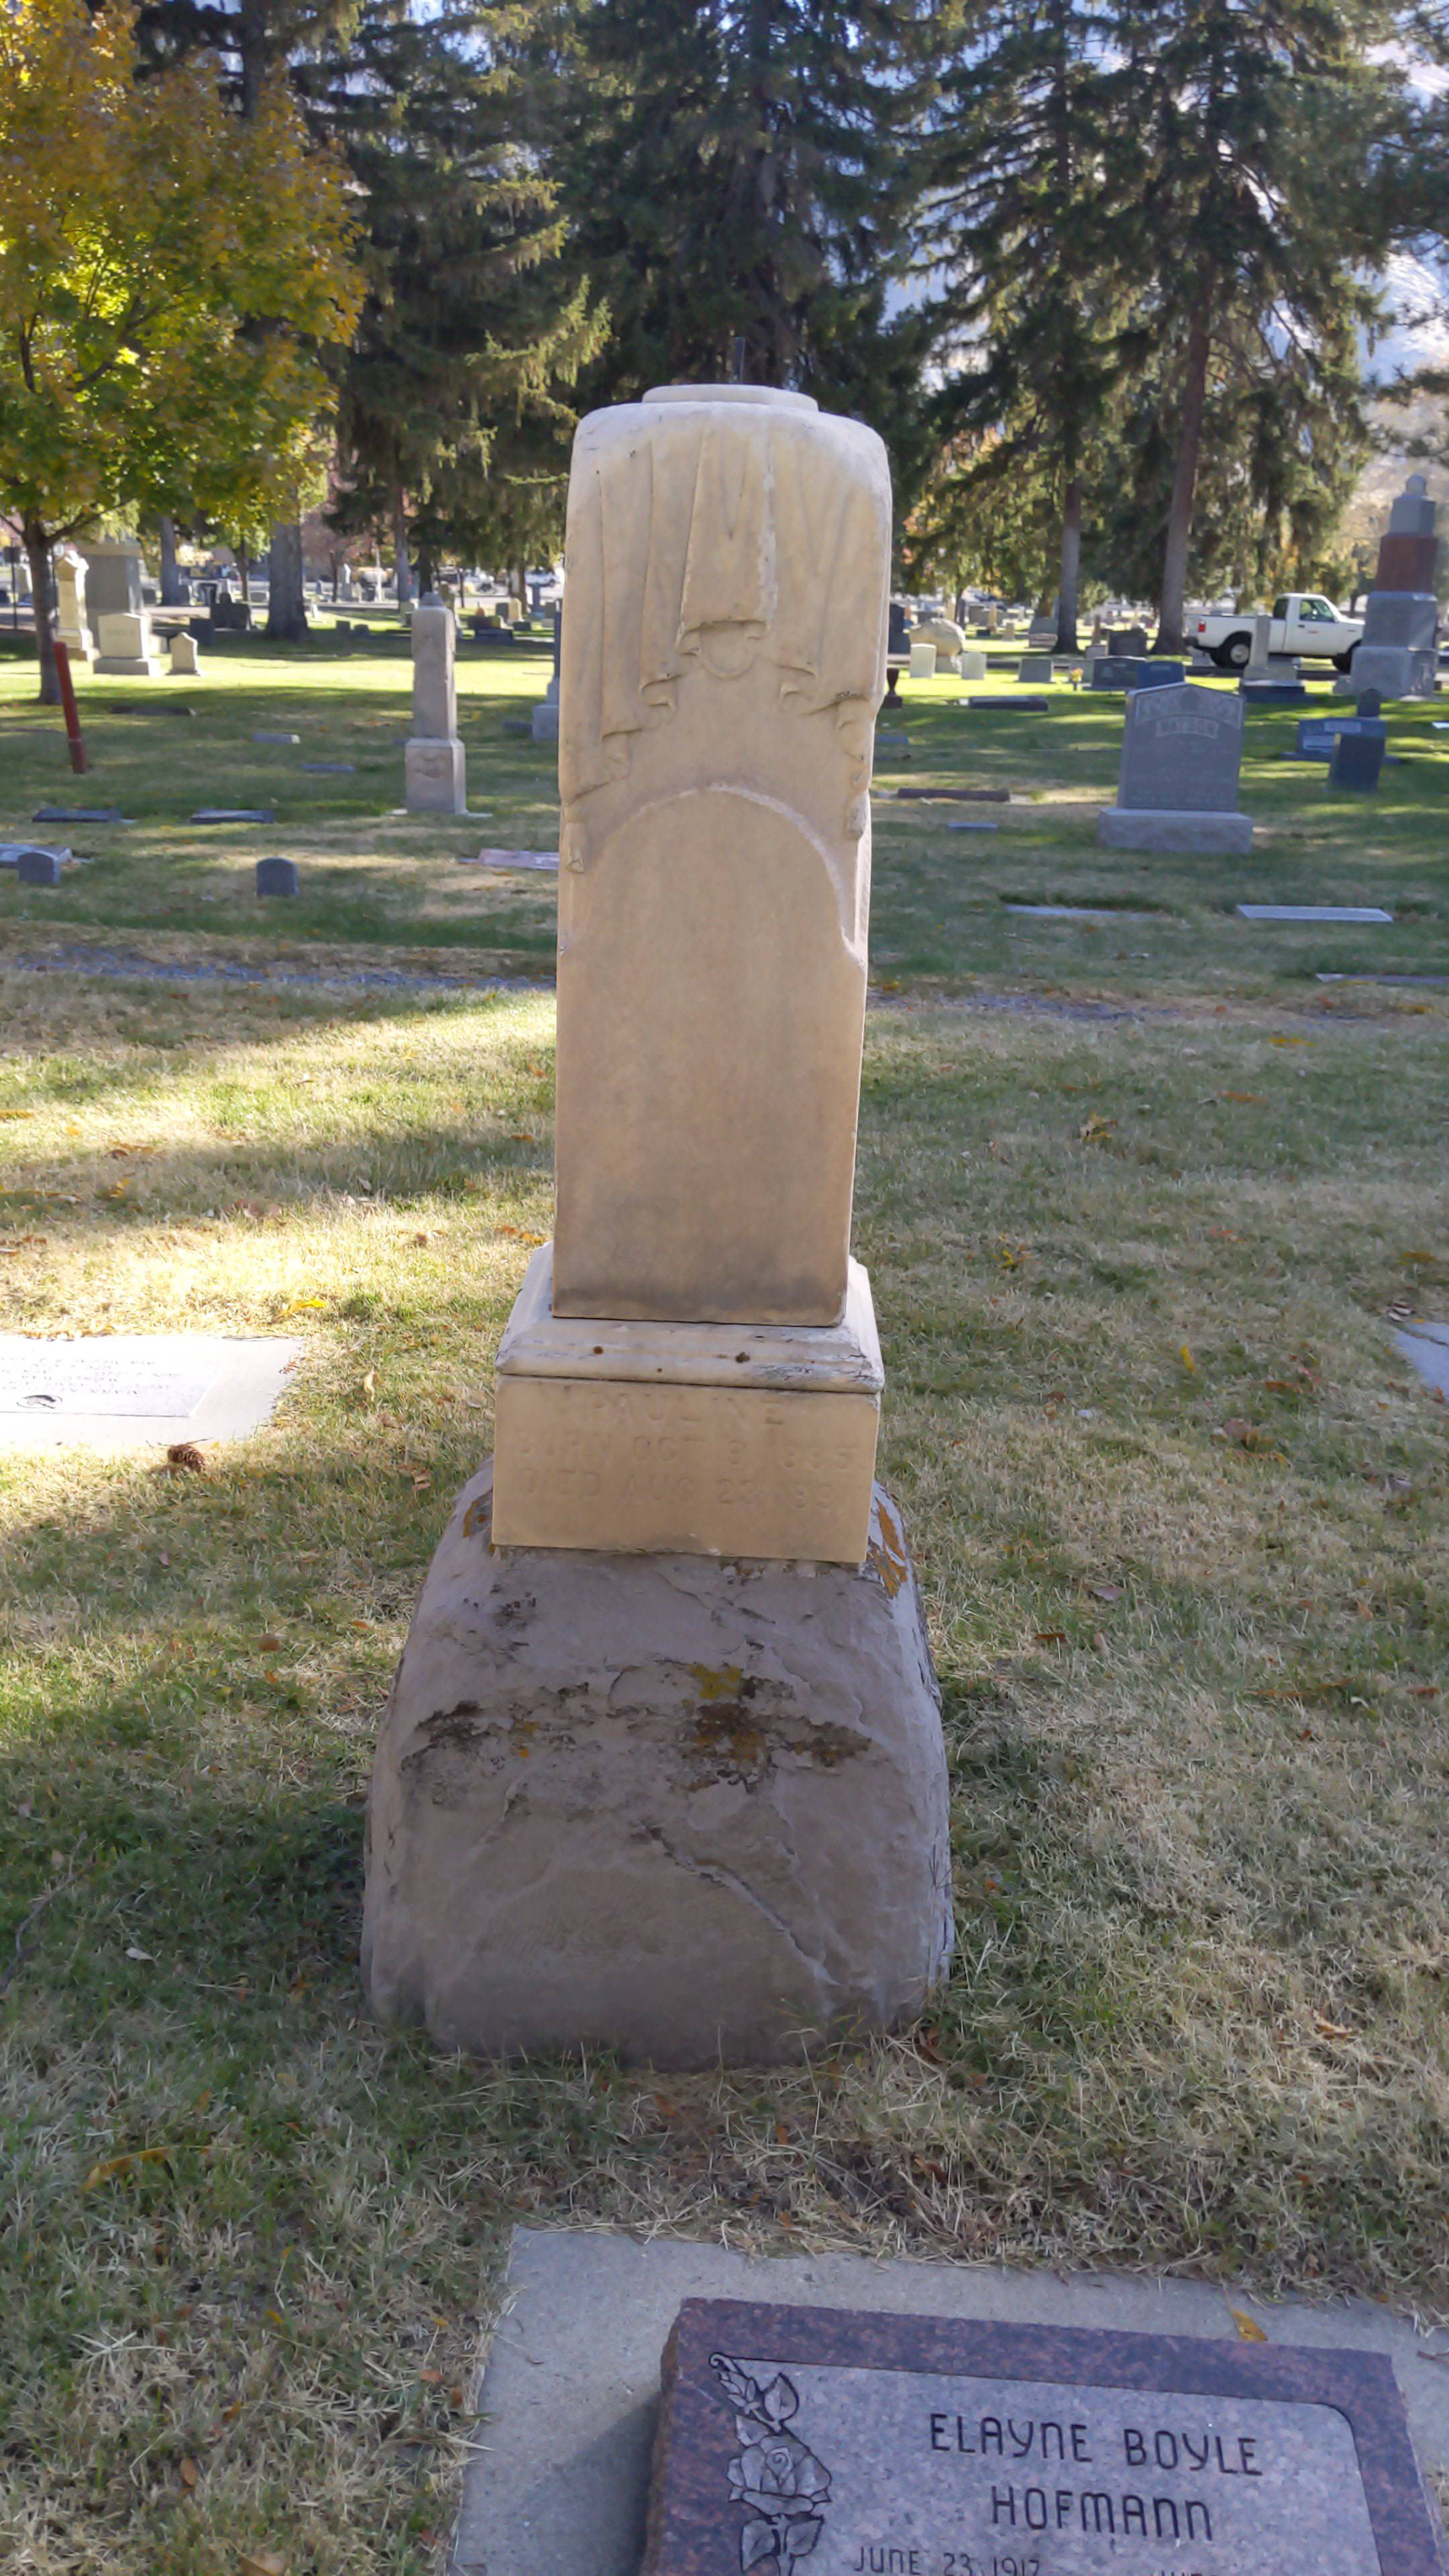obelisk: (506, 389, 890, 1559)
